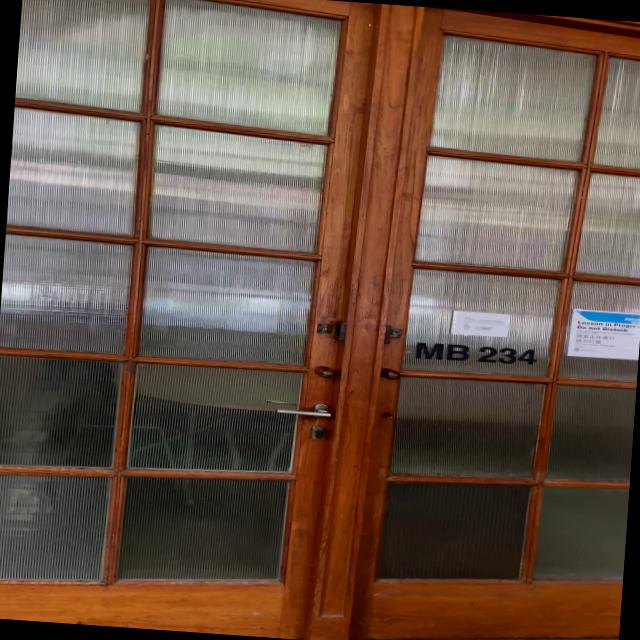room234Window: (406, 333, 544, 372)
